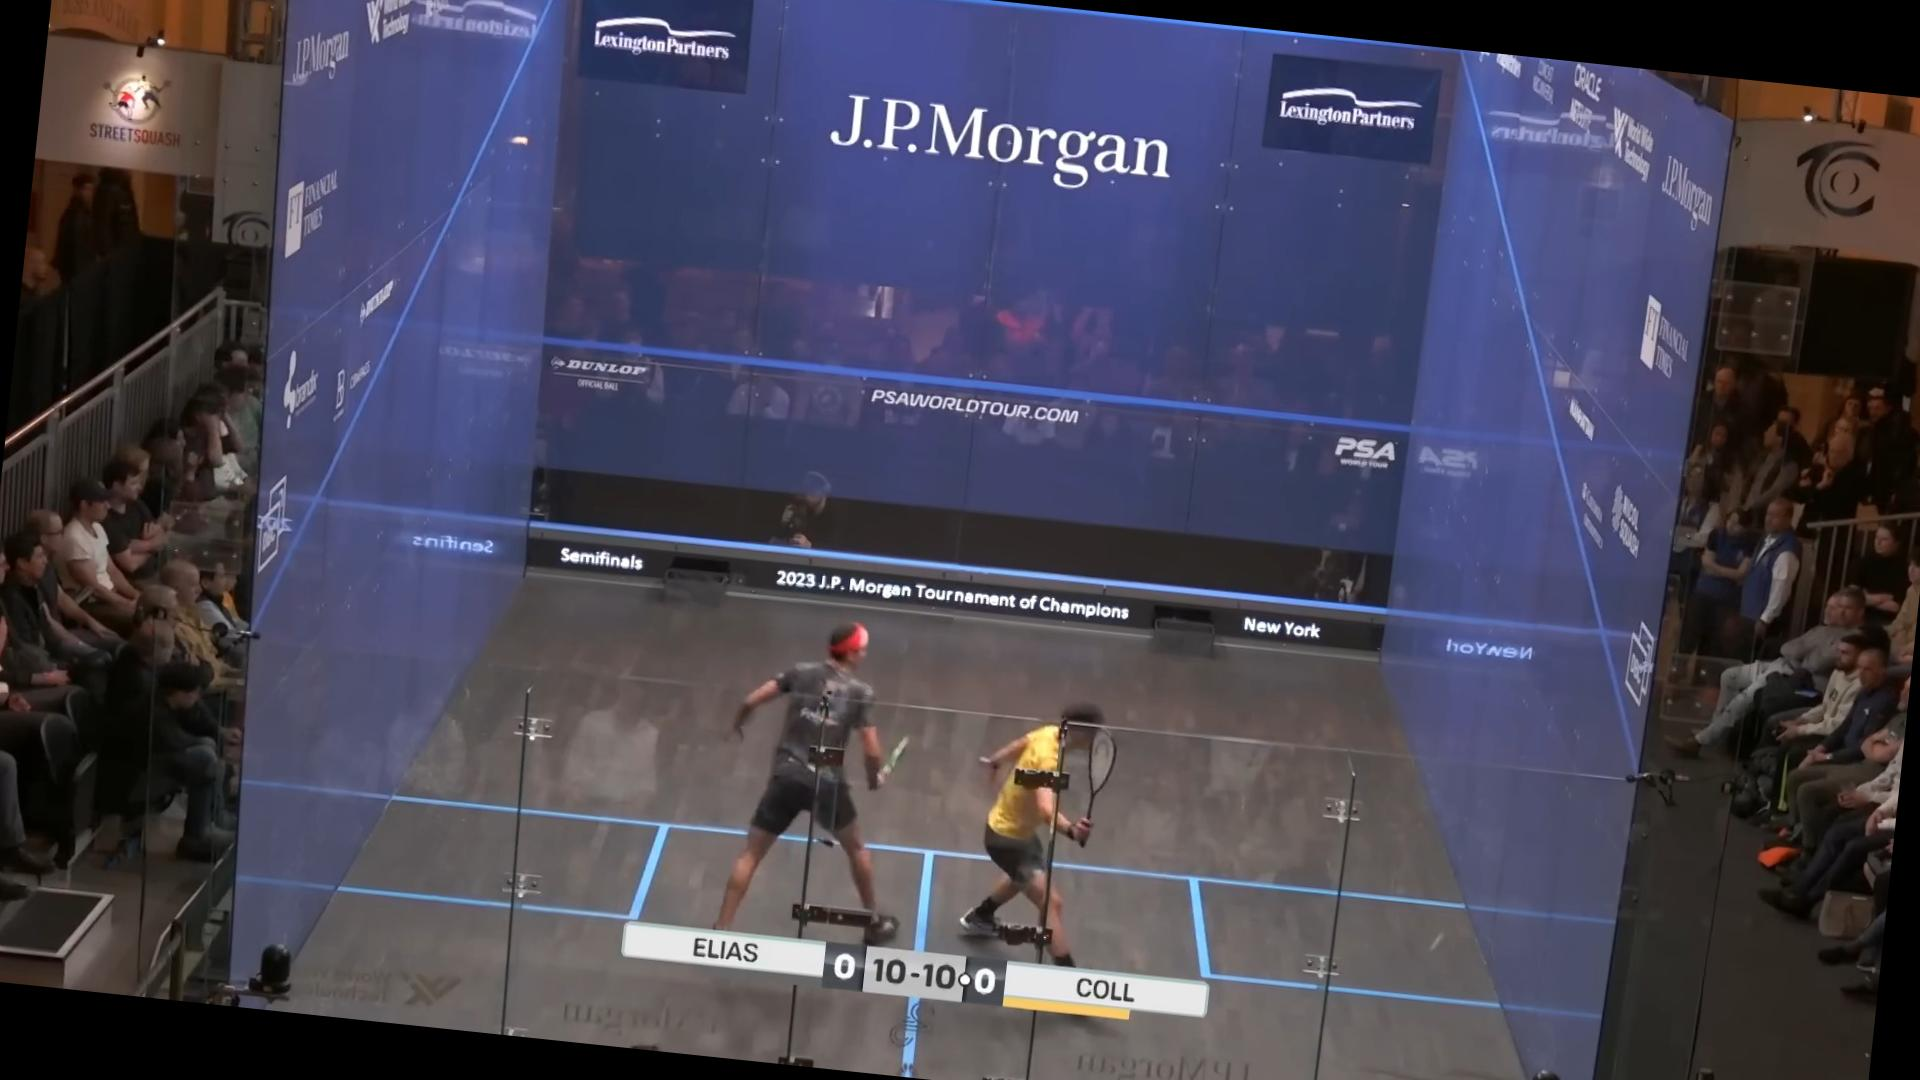Racket: (1073, 725, 1135, 841)
